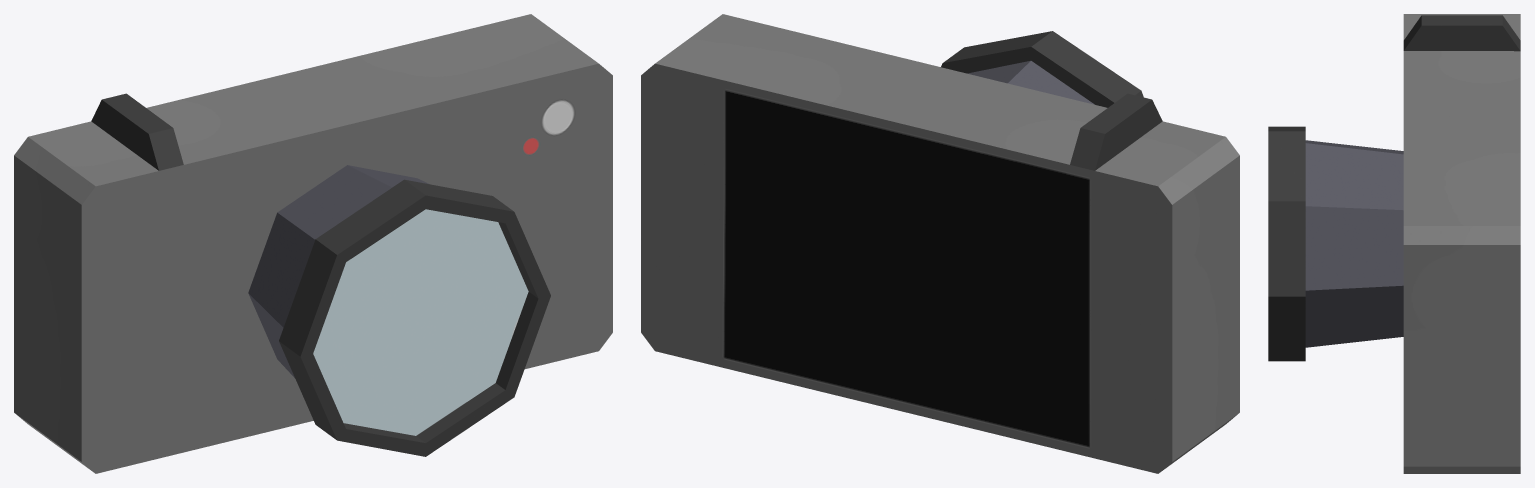
The model's file is Camara.fbx.
The picture shows the model from 3 angles, left to right: view 1: azimuth 30°, elevation 25°; view 2: azimuth 150°, elevation 25°; view 3: azimuth 270°, elevation 25°; orthographic projection. The views are drawn at different scales.
Visible parts, largest first — view 1: Camera:pCube1; view 2: Camera:pCube1; view 3: Camera:pCube1.
Boxes of the visible parts, x1=… form: Camera:pCube1: x1=14, y1=14, x2=612, y2=473; Camera:pCube1: x1=641, y1=14, x2=1239, y2=473; Camera:pCube1: x1=1268, y1=14, x2=1520, y2=473.
Size of the model in its own units: 19 by 10.83 by 9.06.
